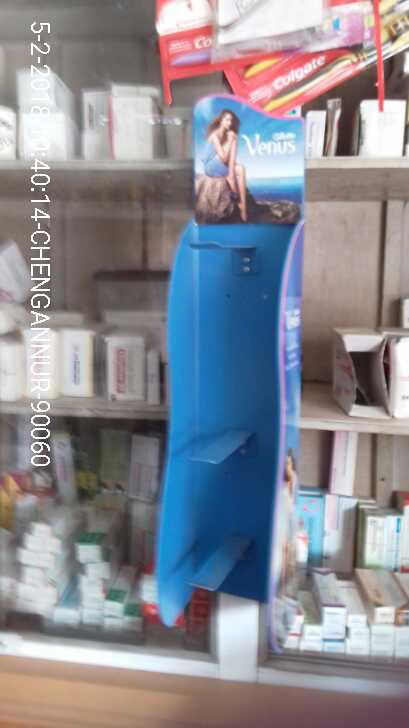reject: (193, 286, 240, 337)
